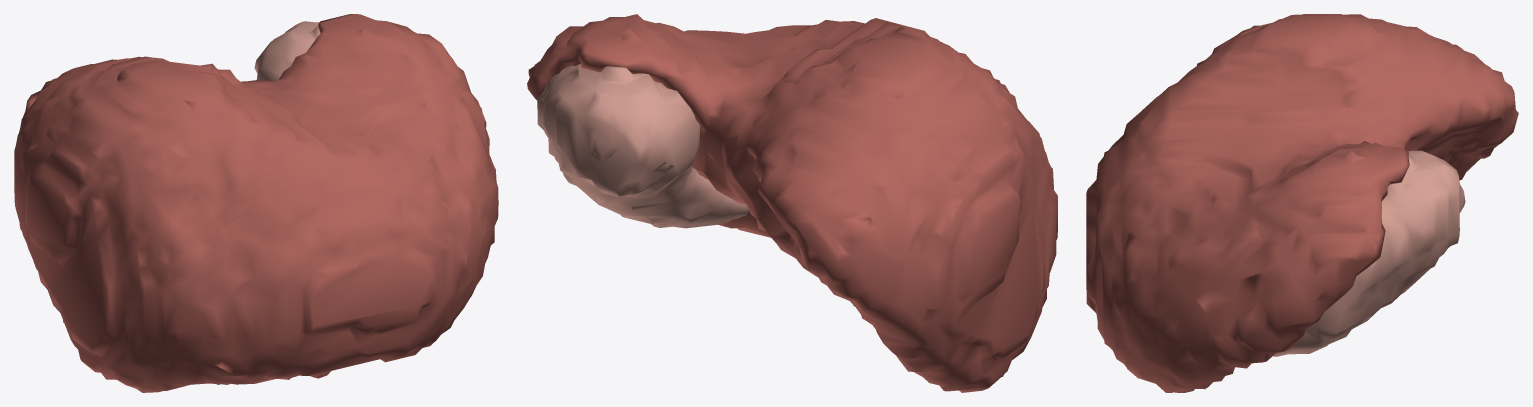
The model's file is fetus.digestive.LOD2.glb.
The picture shows the model from 3 angles, left to right: view 1: azimuth 30°, elevation 25°; view 2: azimuth 150°, elevation 25°; view 3: azimuth 270°, elevation 25°; orthographic projection. The views are drawn at different scales.
Parts seen in each view (by area): view 1: FETUS.DIGESTIVE.LIVER, FETUS.DIGESTIVE.STOMACH; view 2: FETUS.DIGESTIVE.LIVER, FETUS.DIGESTIVE.STOMACH; view 3: FETUS.DIGESTIVE.LIVER, FETUS.DIGESTIVE.STOMACH.
Part boxes in pixels (x1=…): FETUS.DIGESTIVE.LIVER: x1=14, y1=14, x2=498, y2=392; FETUS.DIGESTIVE.STOMACH: x1=254, y1=21, x2=320, y2=81; FETUS.DIGESTIVE.LIVER: x1=527, y1=14, x2=1057, y2=392; FETUS.DIGESTIVE.STOMACH: x1=537, y1=64, x2=749, y2=228; FETUS.DIGESTIVE.LIVER: x1=1086, y1=14, x2=1518, y2=392; FETUS.DIGESTIVE.STOMACH: x1=1273, y1=150, x2=1465, y2=356.
Size of the model in its own units: 0.0676 by 0.0429 by 0.0591.
